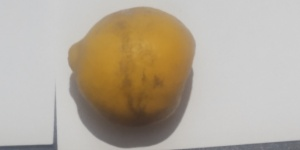BAD: (65, 6, 197, 128)
